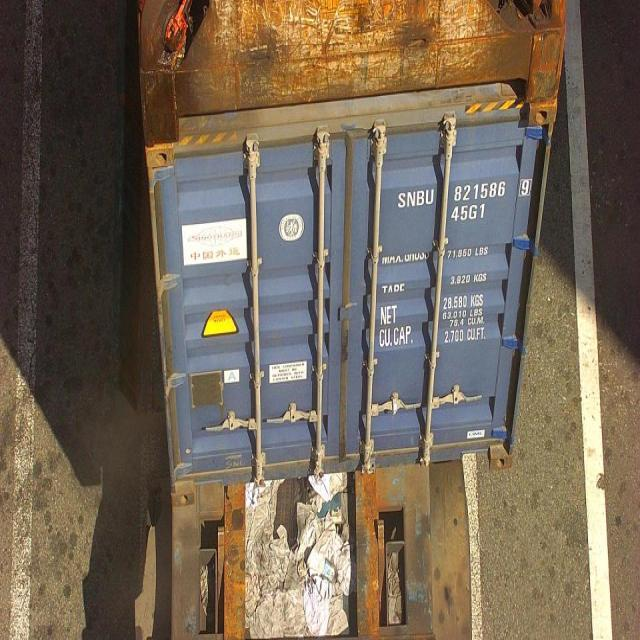ISO: (452, 204, 486, 222)
container_number: (393, 183, 524, 203)
